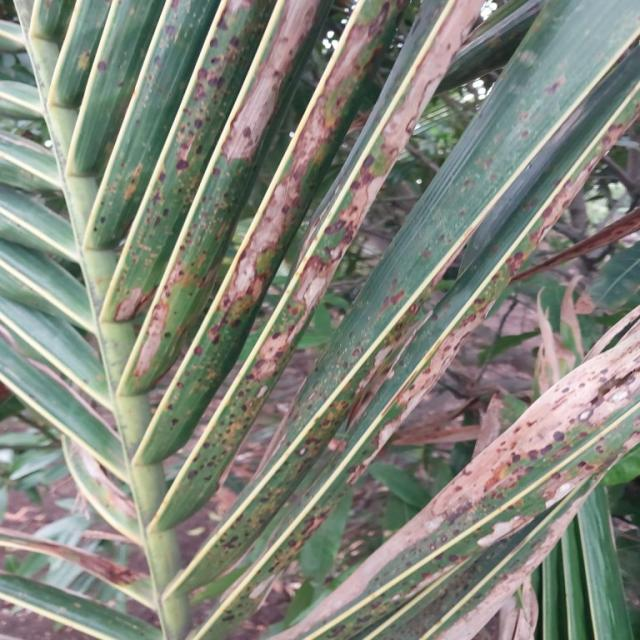gray leaf spot: (241, 116, 635, 593), (109, 0, 471, 426), (277, 318, 638, 640)
